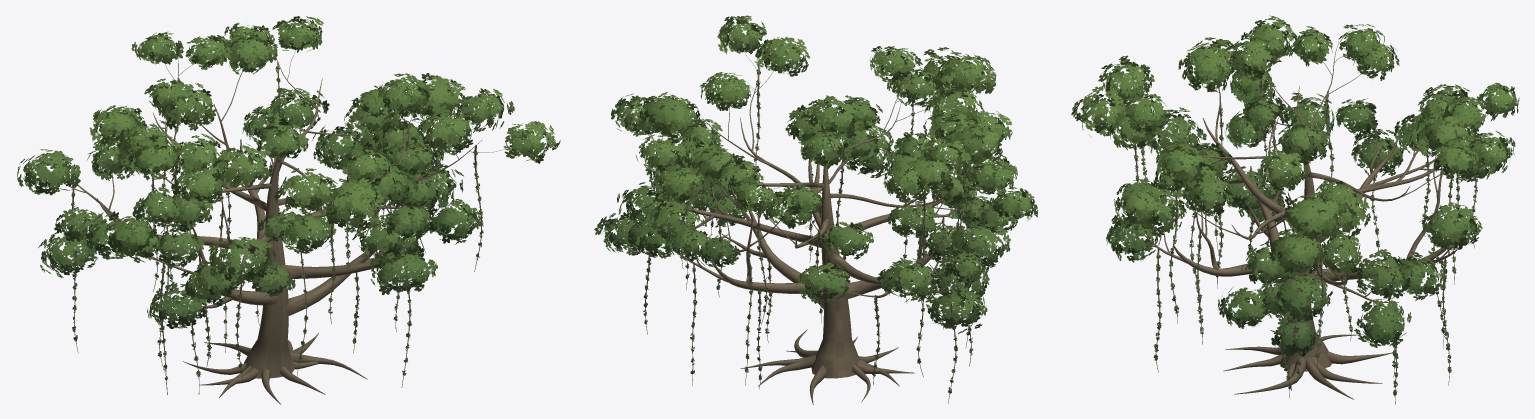
Rendered from tree.gltf.
3 views of the same model, side by side, from view 1: azimuth 30°, elevation 25°; view 2: azimuth 150°, elevation 25°; view 3: azimuth 270°, elevation 25° (orthographic). The views are drawn at different scales.
Visible parts, largest first — view 1: Tree_LOD0; view 2: Tree_LOD0; view 3: Tree_LOD0.
Boxes of the visible parts, x1,y1,x2,y2 form: Tree_LOD0: [17, 16, 560, 404]; Tree_LOD0: [594, 15, 1038, 404]; Tree_LOD0: [1071, 15, 1519, 404].
Bounding box in the file's own units: 34.44 × 21.17 × 30.85.
2 materials, 2 textured.
